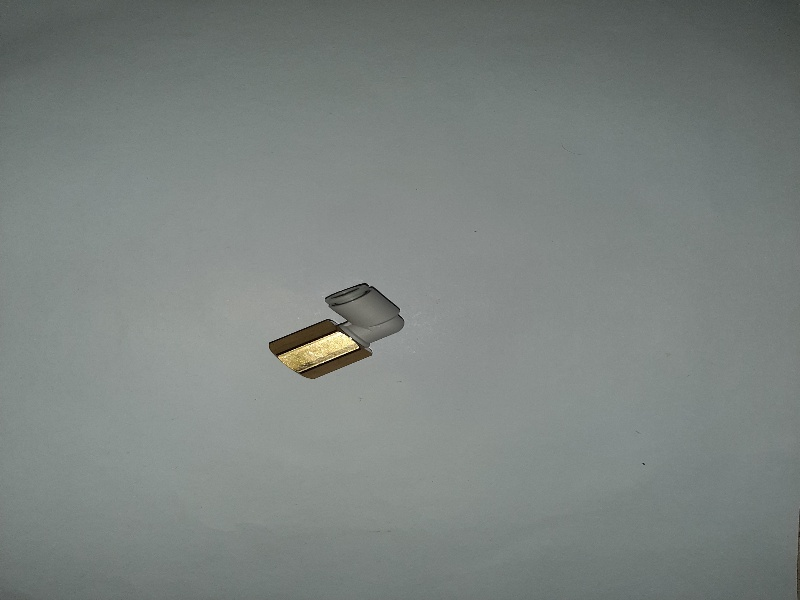Connector: (262, 275, 410, 382)
